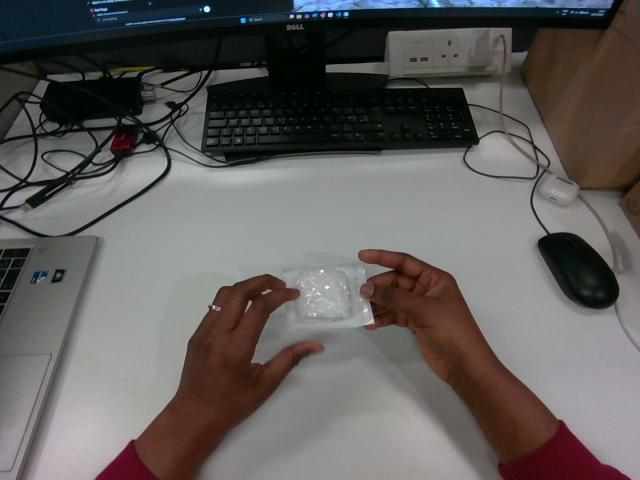gauze: (283, 263, 373, 329)
